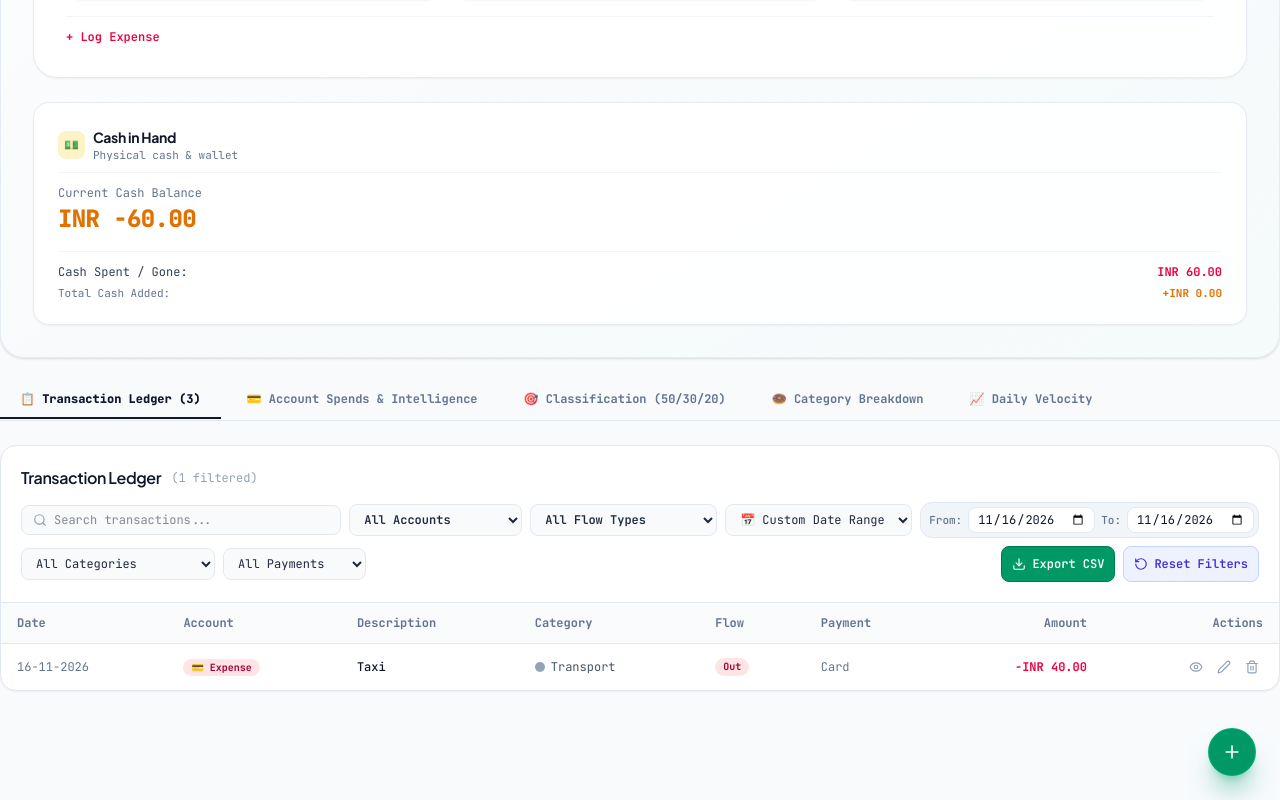
Test: opens the report for enabled accounts: {"cash":true,"savings":false}
The image size is (1280, 800).
(page scrolled)
Click the button "💳 Account Spends & Intelligence".
click(362, 401)  # box [227, 382, 498, 419]
(page scrolled)
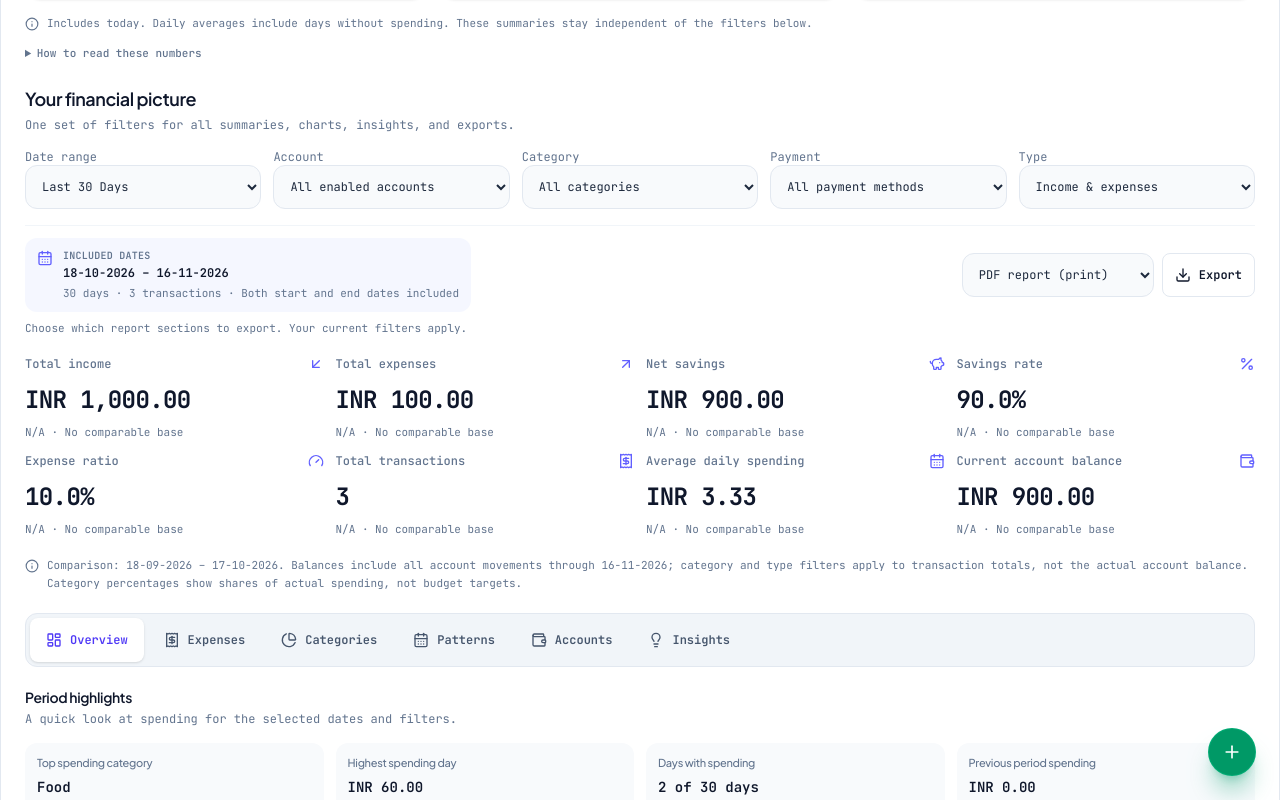
Check: the text "INR 100.00" is shown, box [336, 384, 474, 415]
